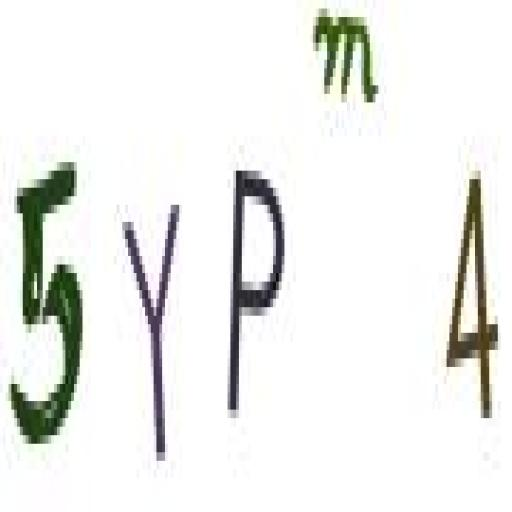4: (436, 153, 510, 429)
5: (9, 162, 87, 454)
P: (225, 147, 293, 426)
Y: (118, 209, 187, 474)
m: (312, 4, 380, 120)
